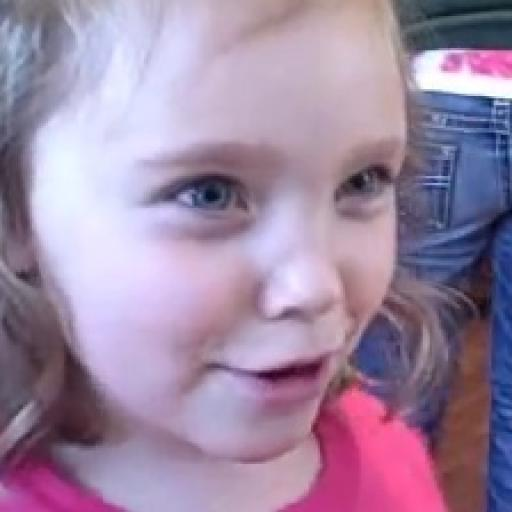Autism: (31, 0, 417, 441)
